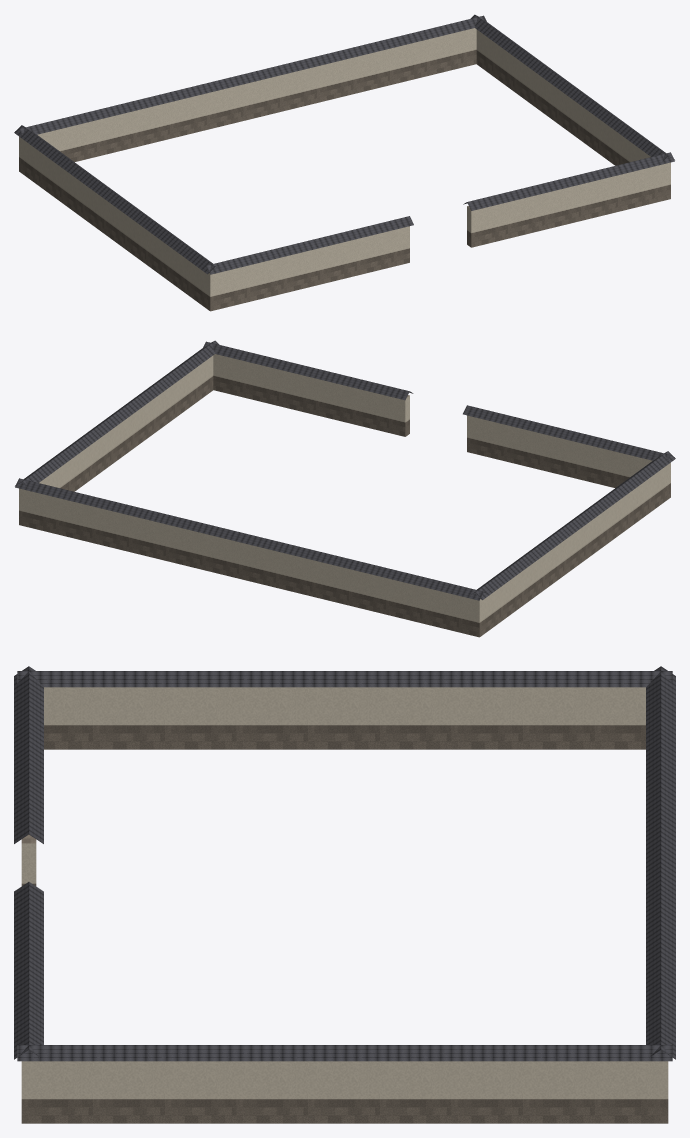
File: arq_muro.obj
3 views of the same model, one above another, from view 1: azimuth 30°, elevation 25°; view 2: azimuth 150°, elevation 25°; view 3: azimuth 270°, elevation 25° (orthographic). The views are drawn at different scales.
Visible parts, largest first — view 1: arq_muro_muro, arq_muro_teja; view 2: arq_muro_muro, arq_muro_teja; view 3: arq_muro_muro, arq_muro_teja.
Part boxes in pixels (bbox=[...]): arq_muro_muro: bbox=[19, 28, 670, 311]; arq_muro_teja: bbox=[14, 14, 674, 274]; arq_muro_muro: bbox=[19, 354, 670, 637]; arq_muro_teja: bbox=[15, 340, 675, 600]; arq_muro_muro: bbox=[21, 687, 668, 1123]; arq_muro_teja: bbox=[14, 666, 675, 1061].
Bounding box in the file's own units: 21.71 × 1.98 × 15.71.
2 materials, 2 textured.
